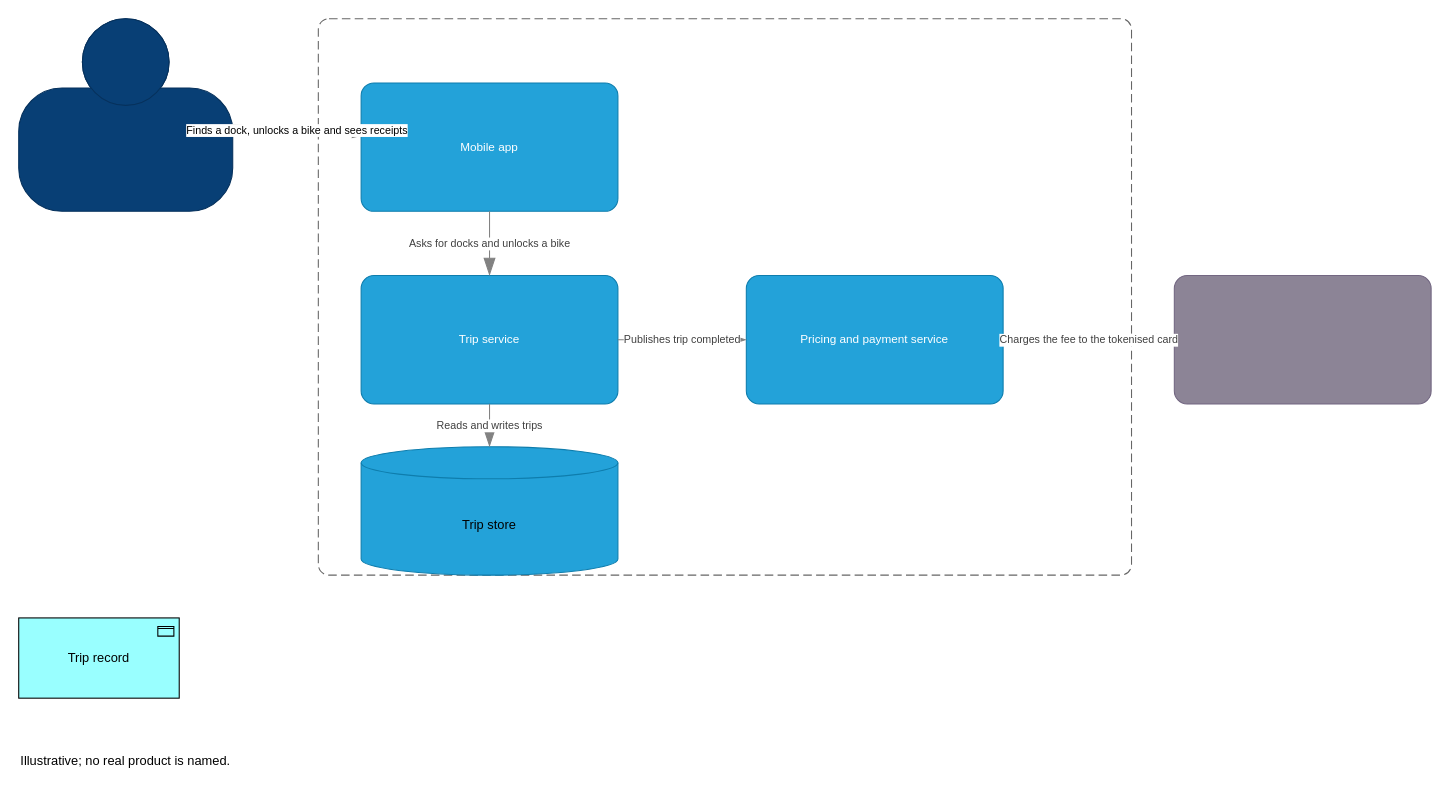
The diagram is 1450 pixels wide and 808 high, and some of its shapes have lost their labels. The box of each missing label's shape, as (x1, y1, x2, y2) in pixels:
Bike share platform: (317, 18, 1132, 575)
Payment provider: (1173, 274, 1431, 404)
Resident: (18, 18, 233, 211)
